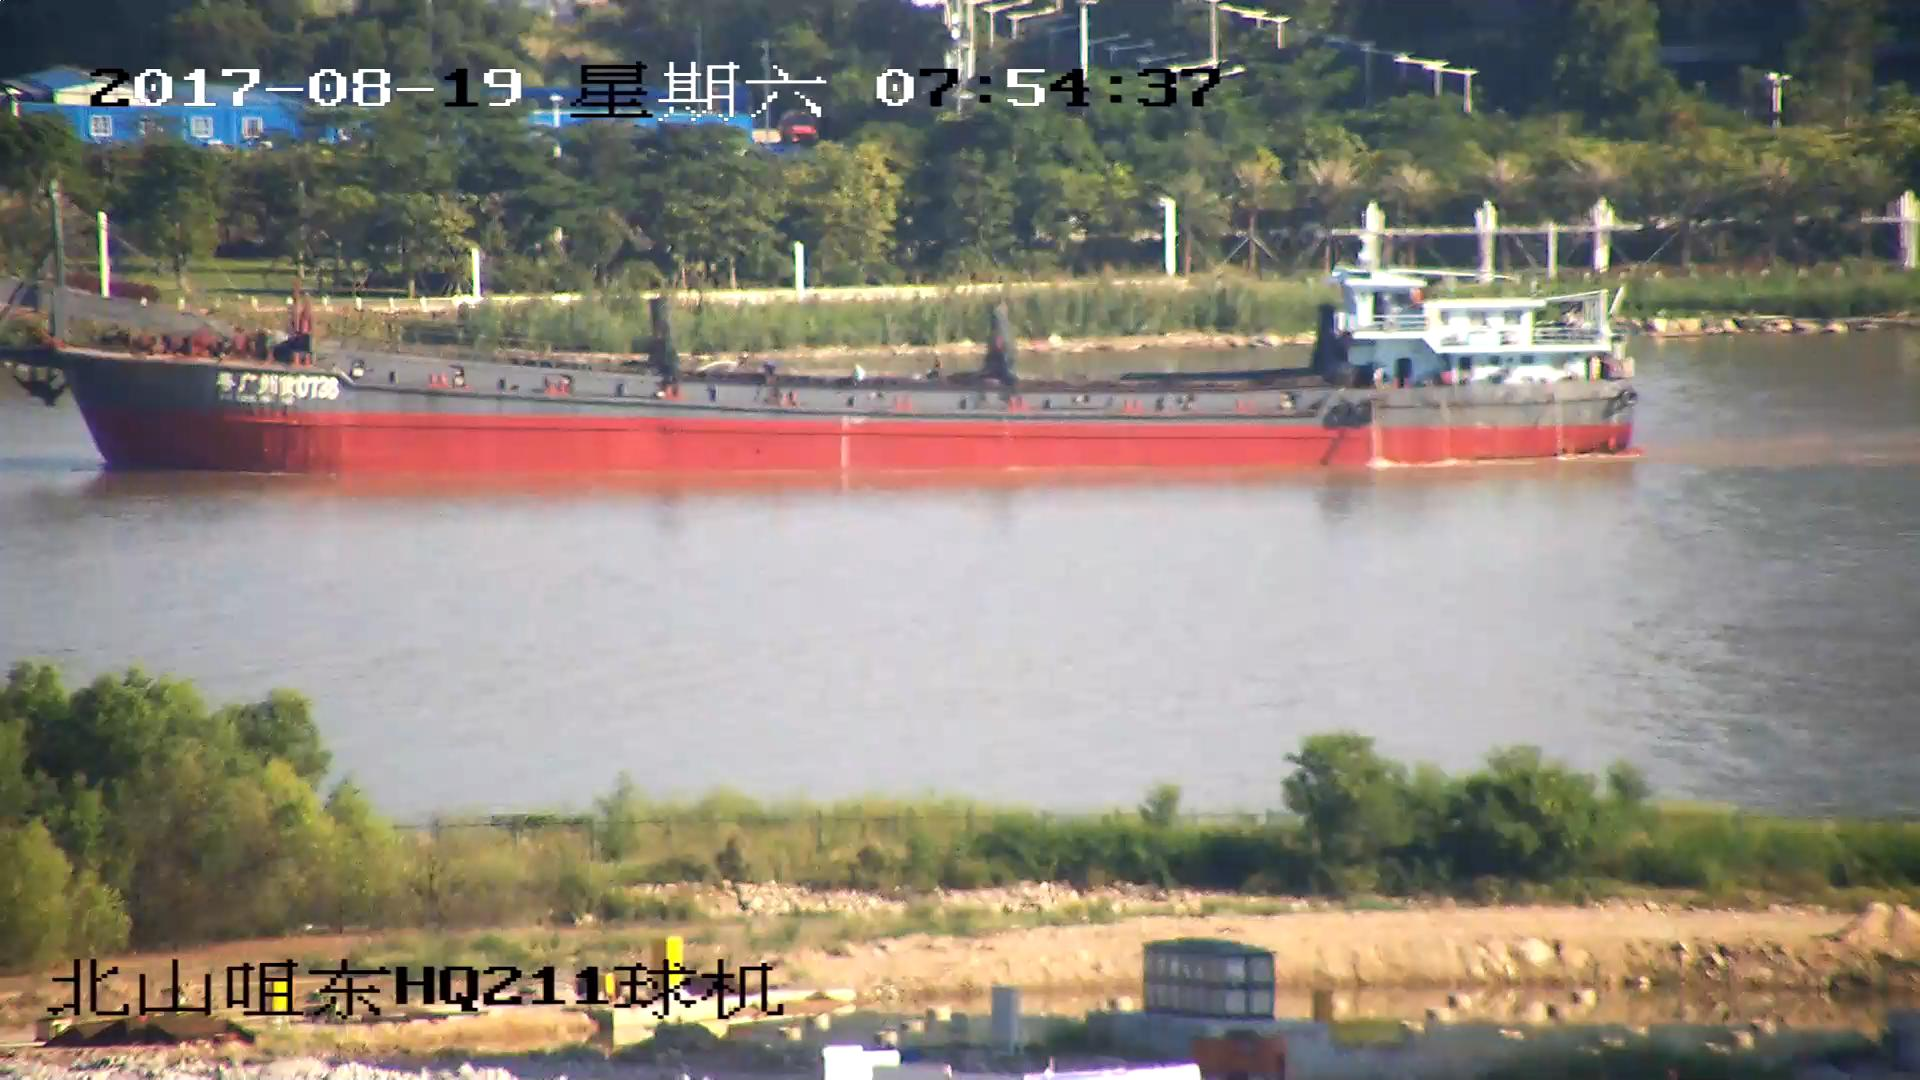bulk cargo carrier: (1, 191, 1637, 476)
